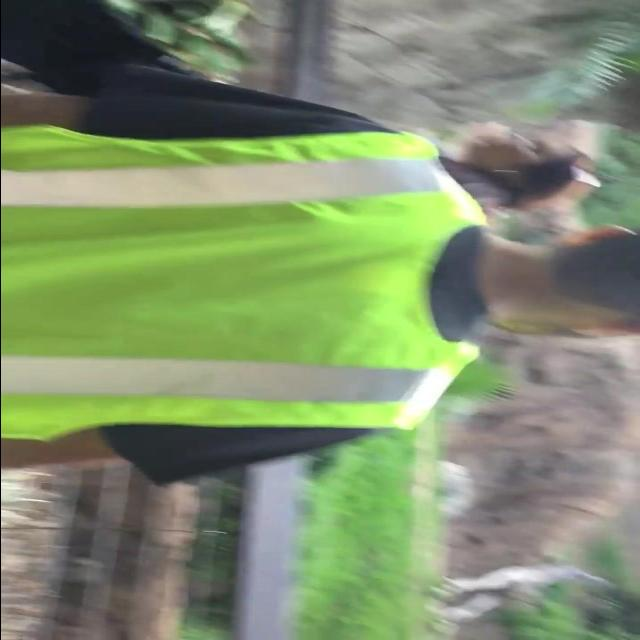jacket: (0, 129, 495, 439)
